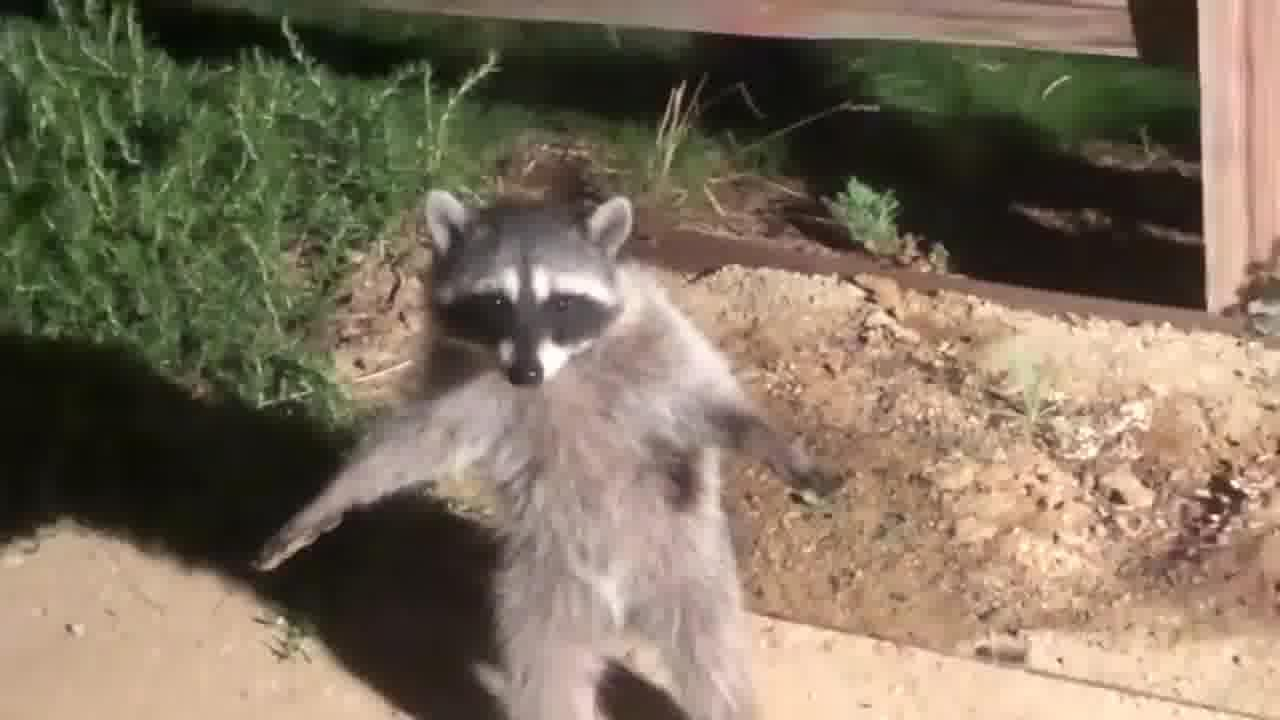raccoon: (239, 173, 867, 720)
